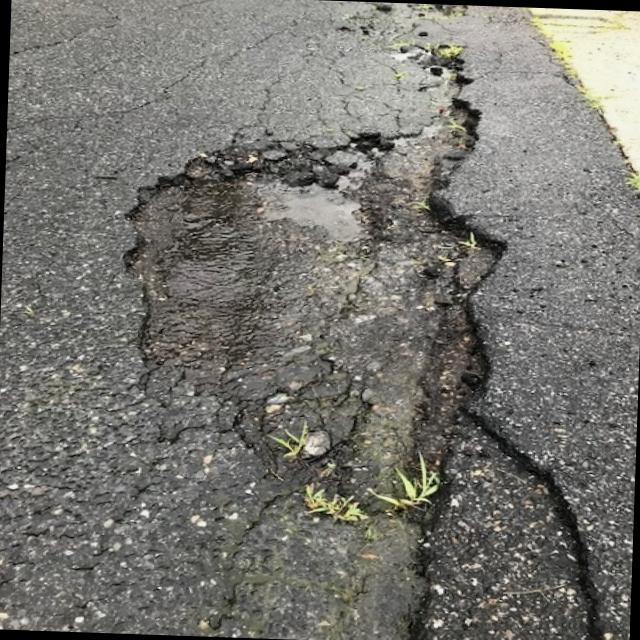bad-road: (105, 36, 513, 526)
